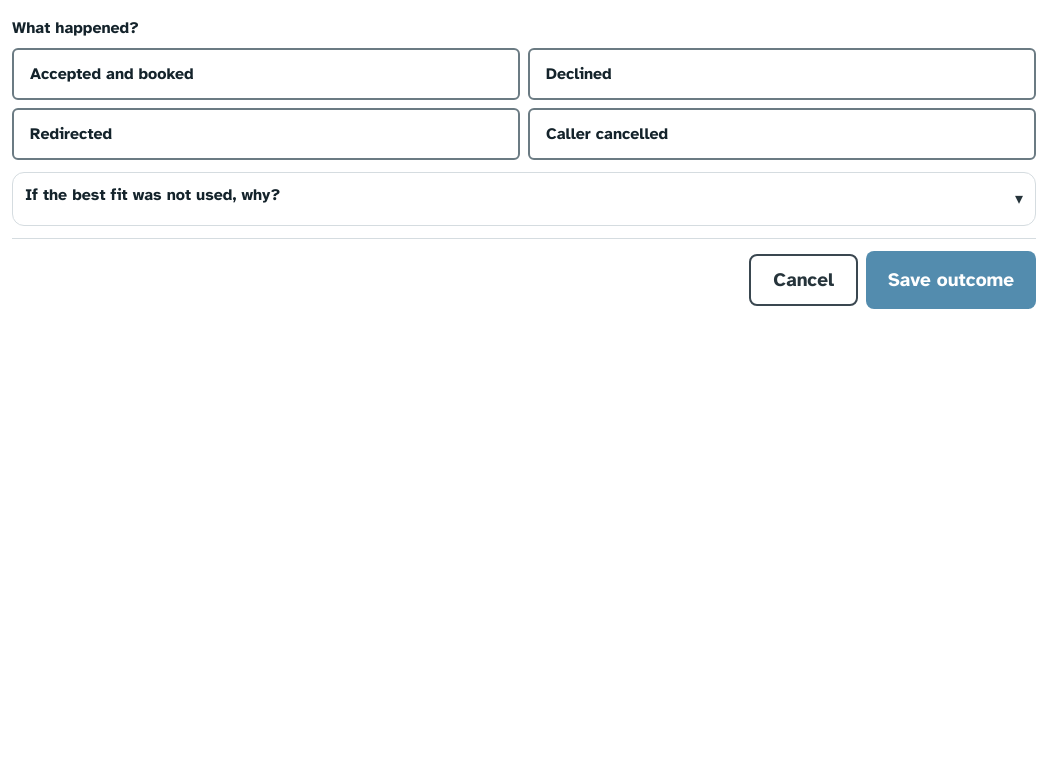
Test: the destination of an outcome (W15) › asks for the service for "Redirected" too
Click the button "Redirected" at (71,134), box [12,108,520,160]
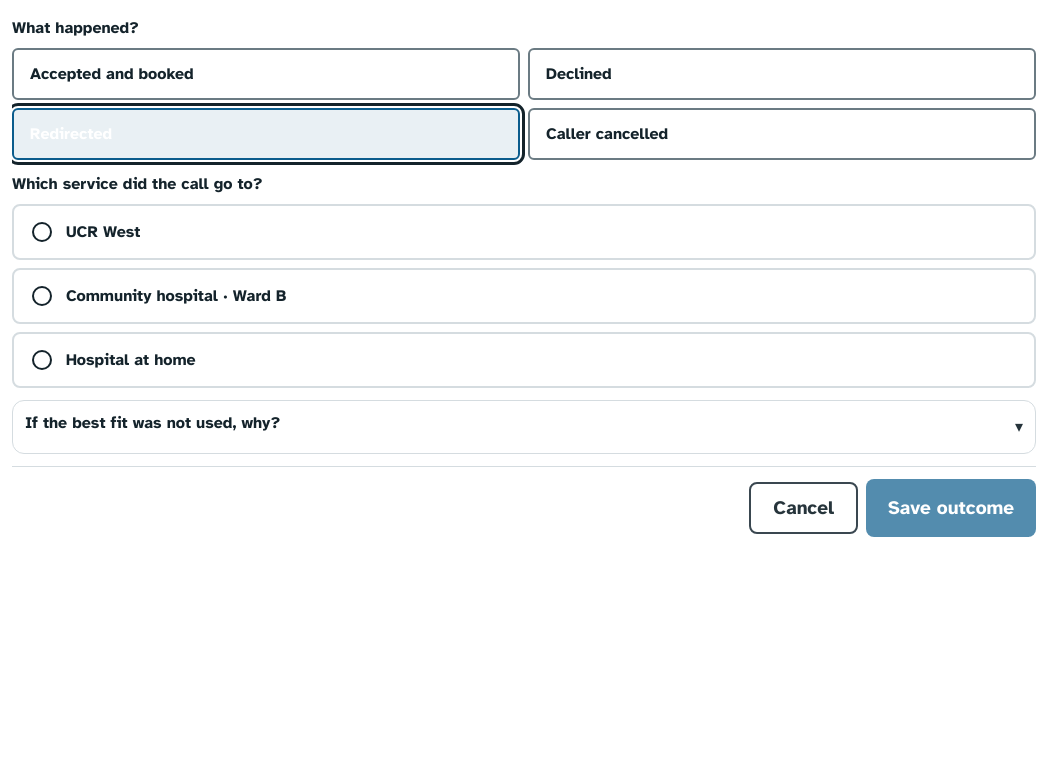
Check: the element "Which service did the call go to?" is shown, box [12,172,1036,388]
